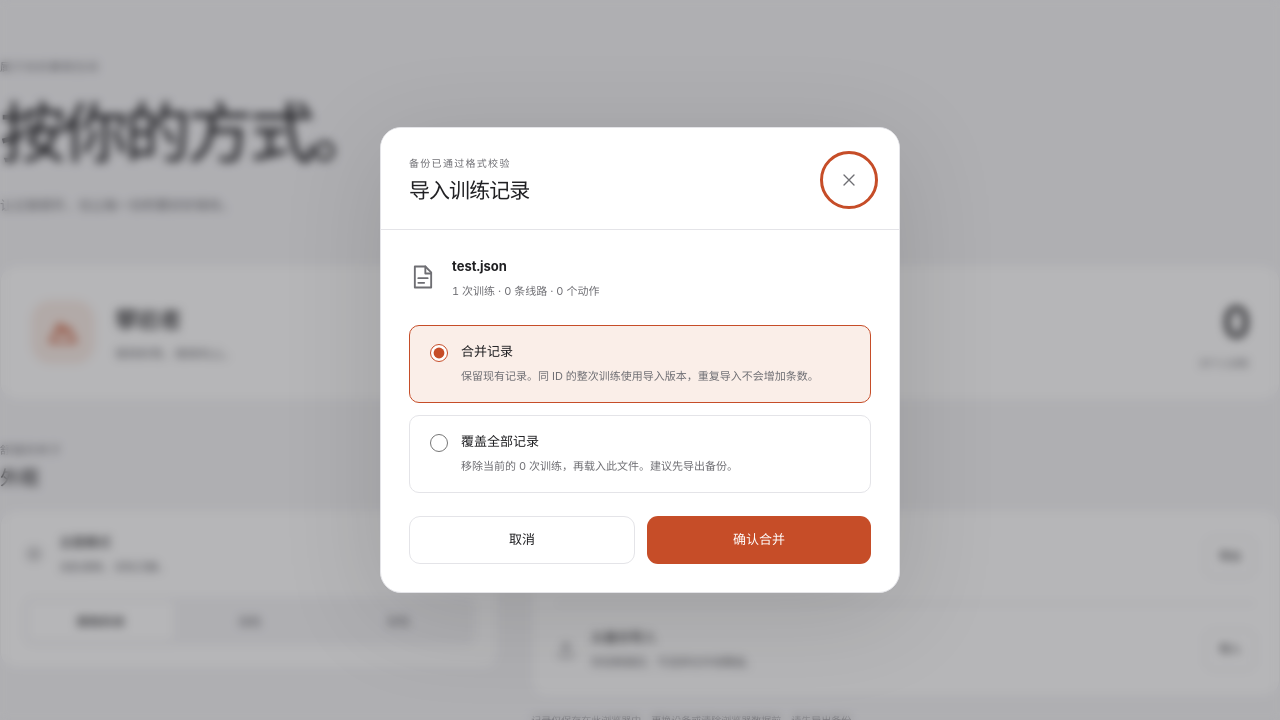
Scenario: 导入交互 › 合并失败保留文件和选项，可再次尝试
Earlier steps of the test are not shown.
Check: the dialog is shown, box top-left (380, 127), bottom-right (900, 593)
Click the button "确认合并": (759, 540) top-left (647, 516), bottom-right (871, 564)
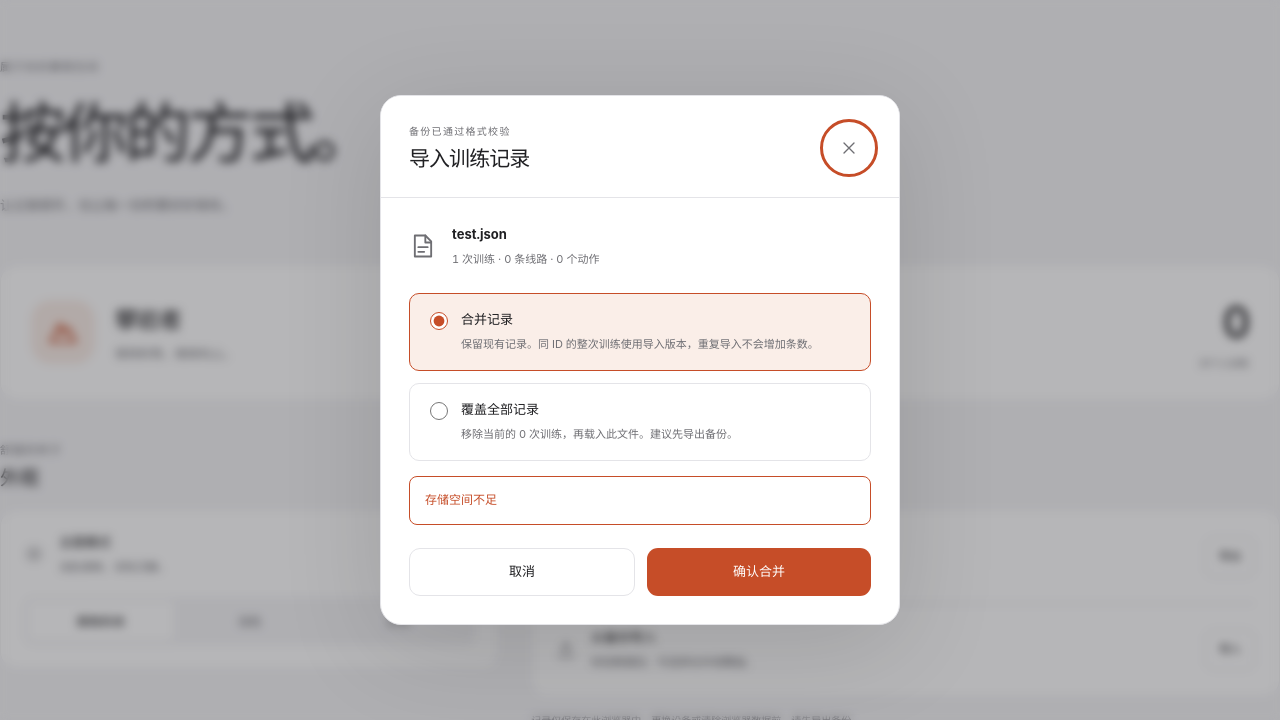
Check: the dialog is shown, box top-left (380, 95), bottom-right (900, 625)
Check: the message reads "存储空间不足", box top-left (425, 492), bottom-right (497, 507)
